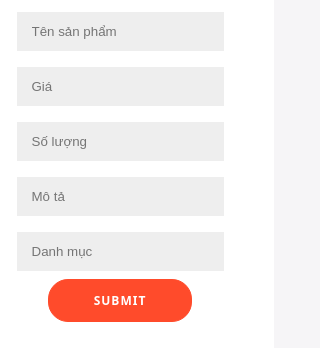
ProductForm Component - Validation › TC1: Hiển thị lỗi khi tên sản phẩm rỗng
Type "100" into the field with placeholder "Giá" at (120,86), box [16,67,224,106]
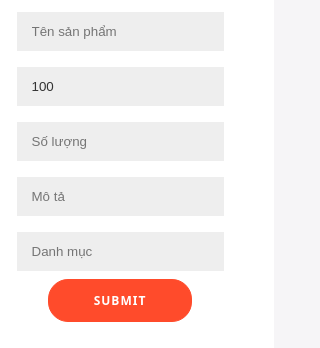
Type "5" into the field with placeholder "Số lượng" at (120,142), box [16,122,224,161]
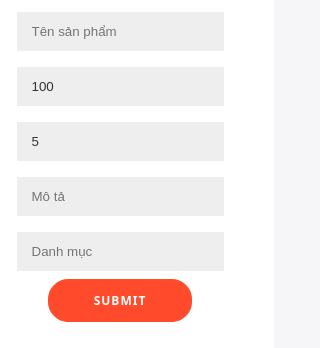
Type "Mô tả hợp lệ" into the field with placeholder "Mô tả" at (120,196), box [16,177,224,216]
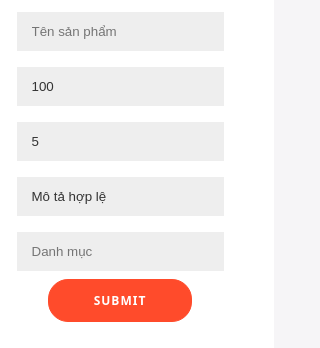
Type "Drink" into the field with placeholder "Danh mục" at (120,252), box [16,232,224,271]
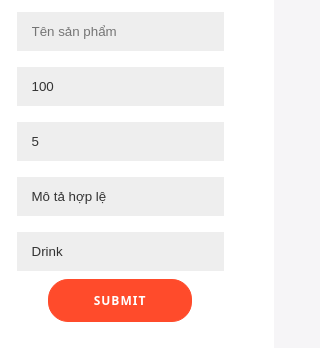
Click the button "Submit" at (120,300), box [48,279,192,322]
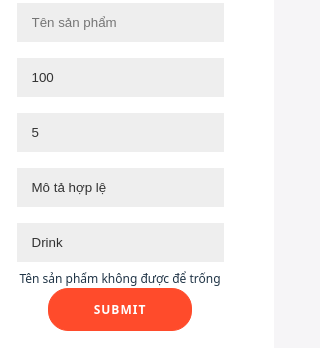
Now the text "Tên sản phẩm không được để trống" is shown, box [19,270,221,288]
